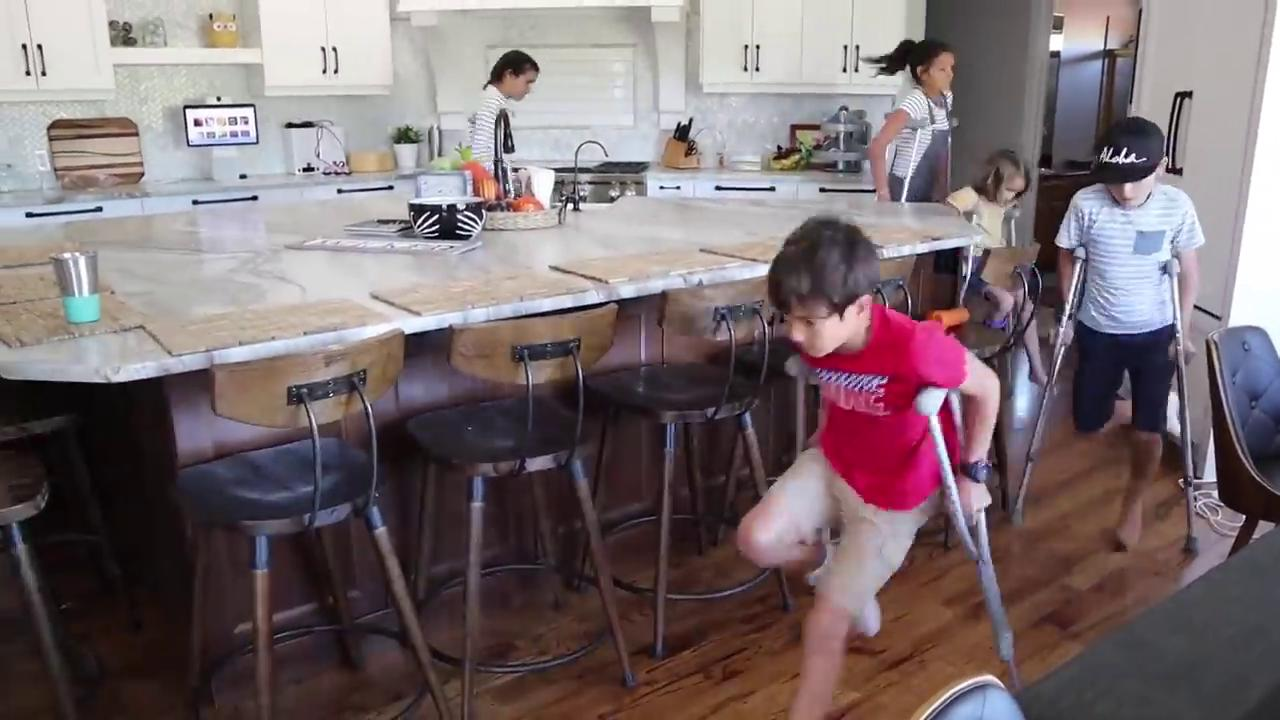crutches: (1009, 114, 1203, 558)
